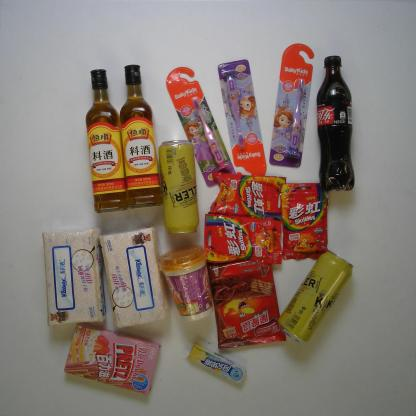Alcohol: (275, 244, 357, 346), (153, 136, 202, 236)
Candy: (277, 179, 332, 264), (202, 212, 286, 267), (206, 170, 289, 222), (182, 340, 249, 386)
Dessert: (205, 255, 289, 351), (61, 318, 163, 397)
Drink: (313, 51, 358, 195)
Instant Drink: (156, 242, 215, 324)
Personal Hygiene: (165, 63, 239, 190), (215, 57, 267, 185), (267, 40, 316, 170)
Seasoner: (113, 61, 166, 210), (81, 65, 132, 216)
Tissue: (95, 221, 175, 334), (36, 225, 110, 330)
